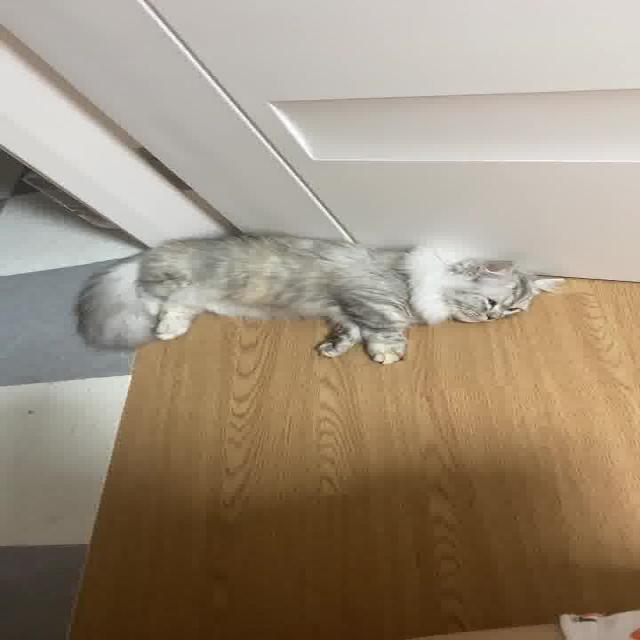cat: (64, 225, 567, 363)
